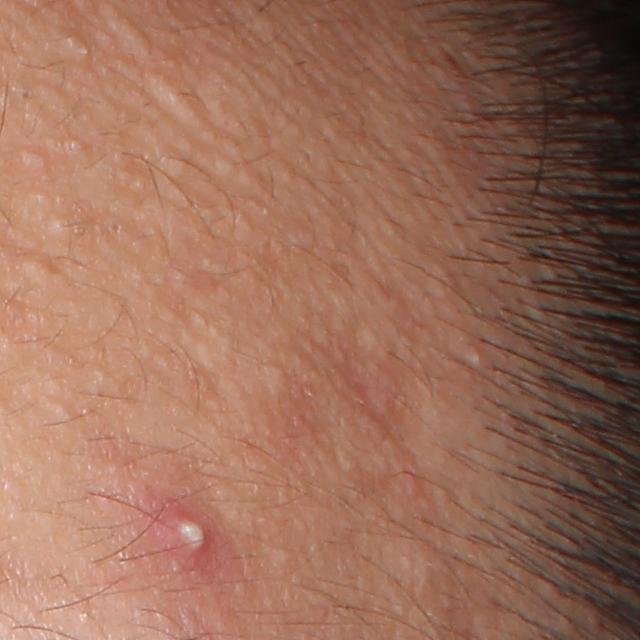comedo: (148, 71, 196, 116), (20, 253, 65, 290), (119, 26, 154, 60), (45, 208, 75, 242), (7, 82, 41, 110), (462, 339, 488, 369), (20, 147, 49, 172), (64, 33, 84, 50), (273, 549, 294, 565)
pustule: (153, 503, 213, 569)
